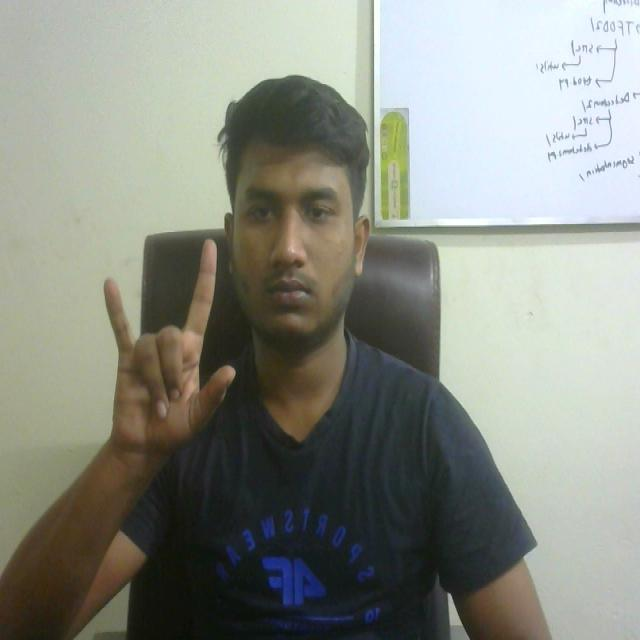B: (86, 228, 236, 459)
